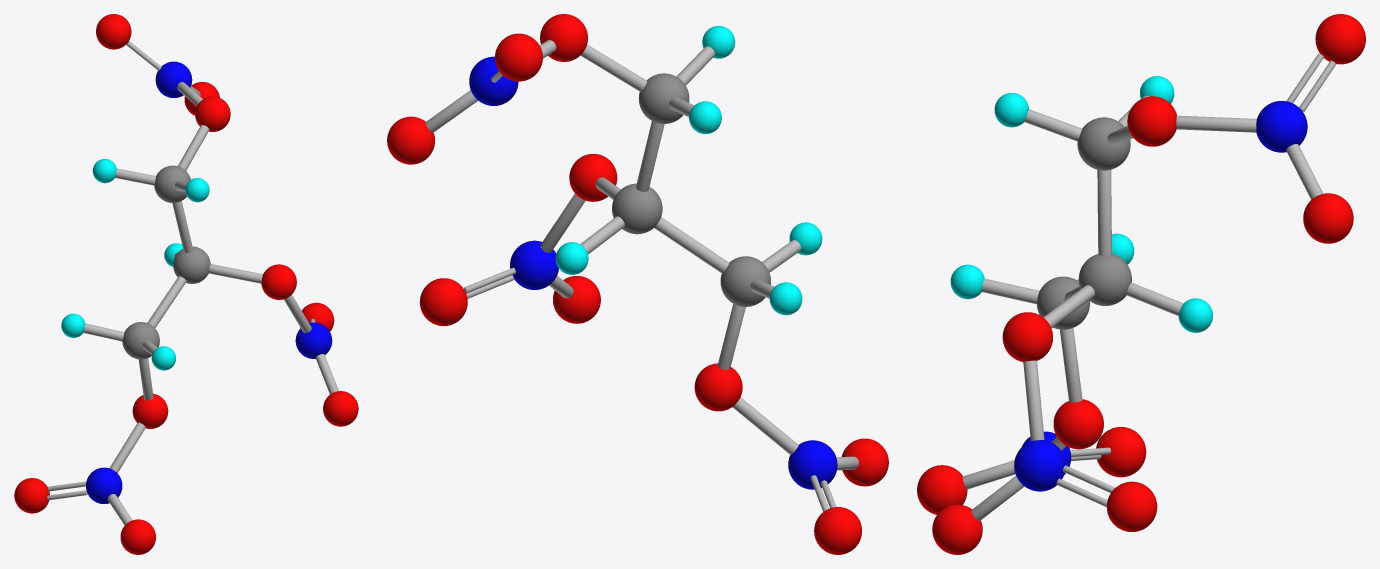
Rendered from nitroglycerin.glb.
3 views of the same model, side by side, from view 1: azimuth 30°, elevation 25°; view 2: azimuth 150°, elevation 25°; view 3: azimuth 270°, elevation 25° (orthographic). The views are drawn at different scales.
Visible parts, largest first — view 1: CMAtom_0, CMAtom_5, CMAtom_1, CMAtom_12, CMAtom_13, CMAtom_10, CMAtom_14, CMAtom_3, CMAtom_7, CMAtom_4, CMAtom_9, CMAtom_2 (+13 smaller); view 2: CMAtom_0, CMAtom_12, CMAtom_14, CMAtom_6, CMAtom_10, CMAtom_11, CMAtom_2, CMAtom_3, CMAtom_4, CMAtom_8, CMAtom_7, CMAtom_5 (+17 smaller); view 3: CMAtom_4, CMAtom_9, CMAtom_0, CMAtom_6, CMAtom_11, CMAtom_7, CMAtom_12, CMAtom_1, CMAtom_8, CMAtom_5, CMAtom_2, CMAtom_14 (+17 smaller).
Part boxes in pixels (<box>): CMAtom_0: <box>173,246,210,283</box>; CMAtom_5: <box>323,391,358,426</box>; CMAtom_1: <box>261,264,296,299</box>; CMAtom_12: <box>96,14,131,49</box>; CMAtom_13: <box>120,519,155,554</box>; CMAtom_10: <box>86,467,122,503</box>; CMAtom_14: <box>14,478,49,513</box>; CMAtom_3: <box>122,322,159,359</box>; CMAtom_7: <box>195,96,230,131</box>; CMAtom_4: <box>295,322,332,358</box>; CMAtom_9: <box>155,61,192,97</box>; CMAtom_2: <box>154,165,190,202</box>; CMAtom_0: <box>612,183,662,234</box>; CMAtom_12: <box>495,33,542,81</box>; CMAtom_14: <box>814,507,861,554</box>; CMAtom_6: <box>419,278,467,326</box>; CMAtom_10: <box>788,440,837,489</box>; CMAtom_11: <box>387,116,434,164</box>; CMAtom_2: <box>638,73,689,123</box>; CMAtom_3: <box>720,256,770,306</box>; CMAtom_4: <box>510,240,558,289</box>; CMAtom_8: <box>694,363,742,411</box>; CMAtom_7: <box>540,14,587,61</box>; CMAtom_5: <box>553,276,600,323</box>; CMAtom_4: <box>1014,440,1065,491</box>; CMAtom_9: <box>1256,101,1307,152</box>; CMAtom_0: <box>1078,254,1131,305</box>; CMAtom_6: <box>1106,481,1157,531</box>; CMAtom_11: <box>1303,193,1353,243</box>; CMAtom_7: <box>1127,96,1176,146</box>; CMAtom_12: <box>1315,14,1365,64</box>; CMAtom_1: <box>1002,312,1052,361</box>; CMAtom_8: <box>1053,399,1103,449</box>; CMAtom_5: <box>932,504,982,554</box>; CMAtom_2: <box>1077,117,1130,170</box>; CMAtom_14: <box>1096,427,1146,477</box>.
Size of the model in its own units: 6.05 by 7.37 by 5.19.
